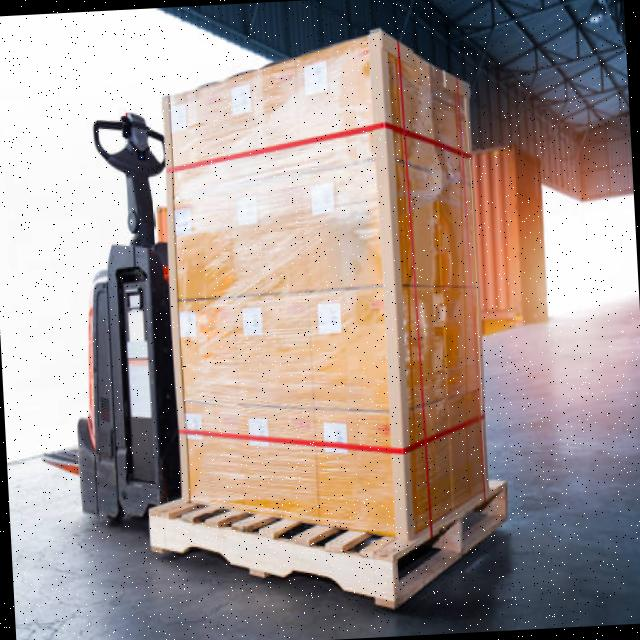Wooden-Pallets: (149, 476, 513, 617)
